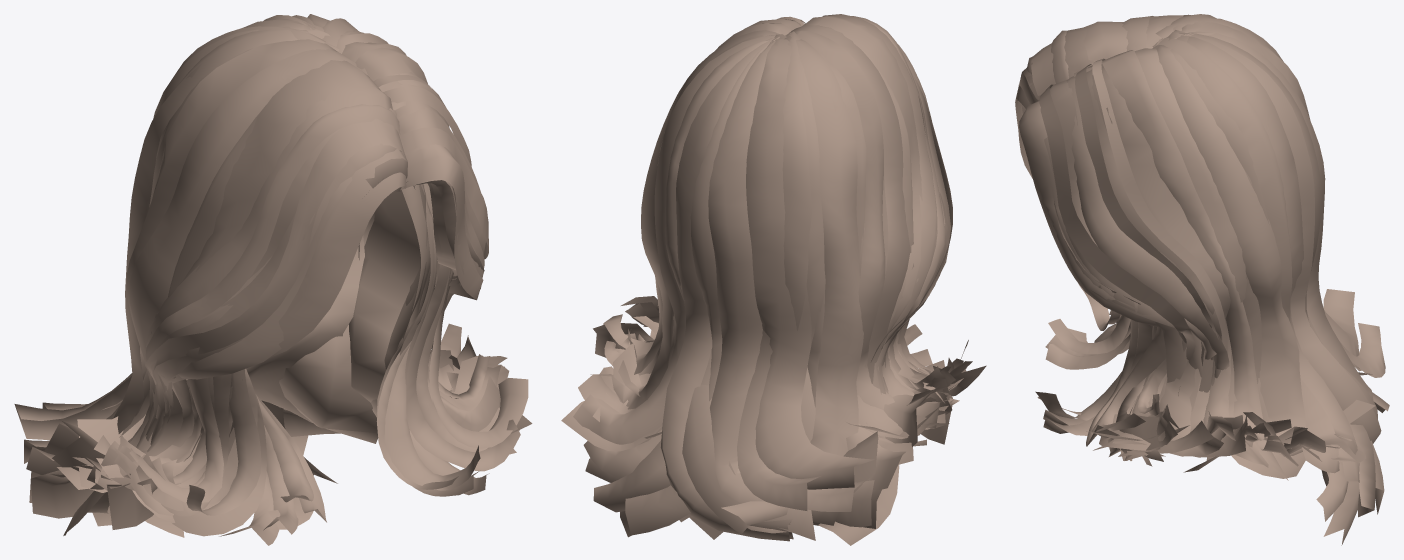
Rendered from female_hair_02_lod0.glb.
The picture shows the model from 3 angles, left to right: view 1: azimuth 30°, elevation 25°; view 2: azimuth 150°, elevation 25°; view 3: azimuth 270°, elevation 25°; orthographic projection. The views are drawn at different scales.
Visible parts, largest first — view 1: female-hair-02; view 2: female-hair-02; view 3: female-hair-02.
Boxes of the visible parts, left/top/right/bottom form: female-hair-02: left=14, top=14, right=532, bottom=545; female-hair-02: left=561, top=14, right=986, bottom=545; female-hair-02: left=1015, top=14, right=1389, bottom=545.
Bounding box in the file's own units: 0.3146 × 0.4108 × 0.291.
